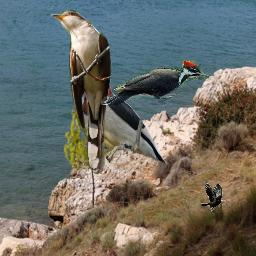Crow: (201, 181, 223, 214)
Cuckoo: (51, 10, 112, 174)
Woodpecker: (77, 56, 173, 177), (101, 60, 209, 105)
